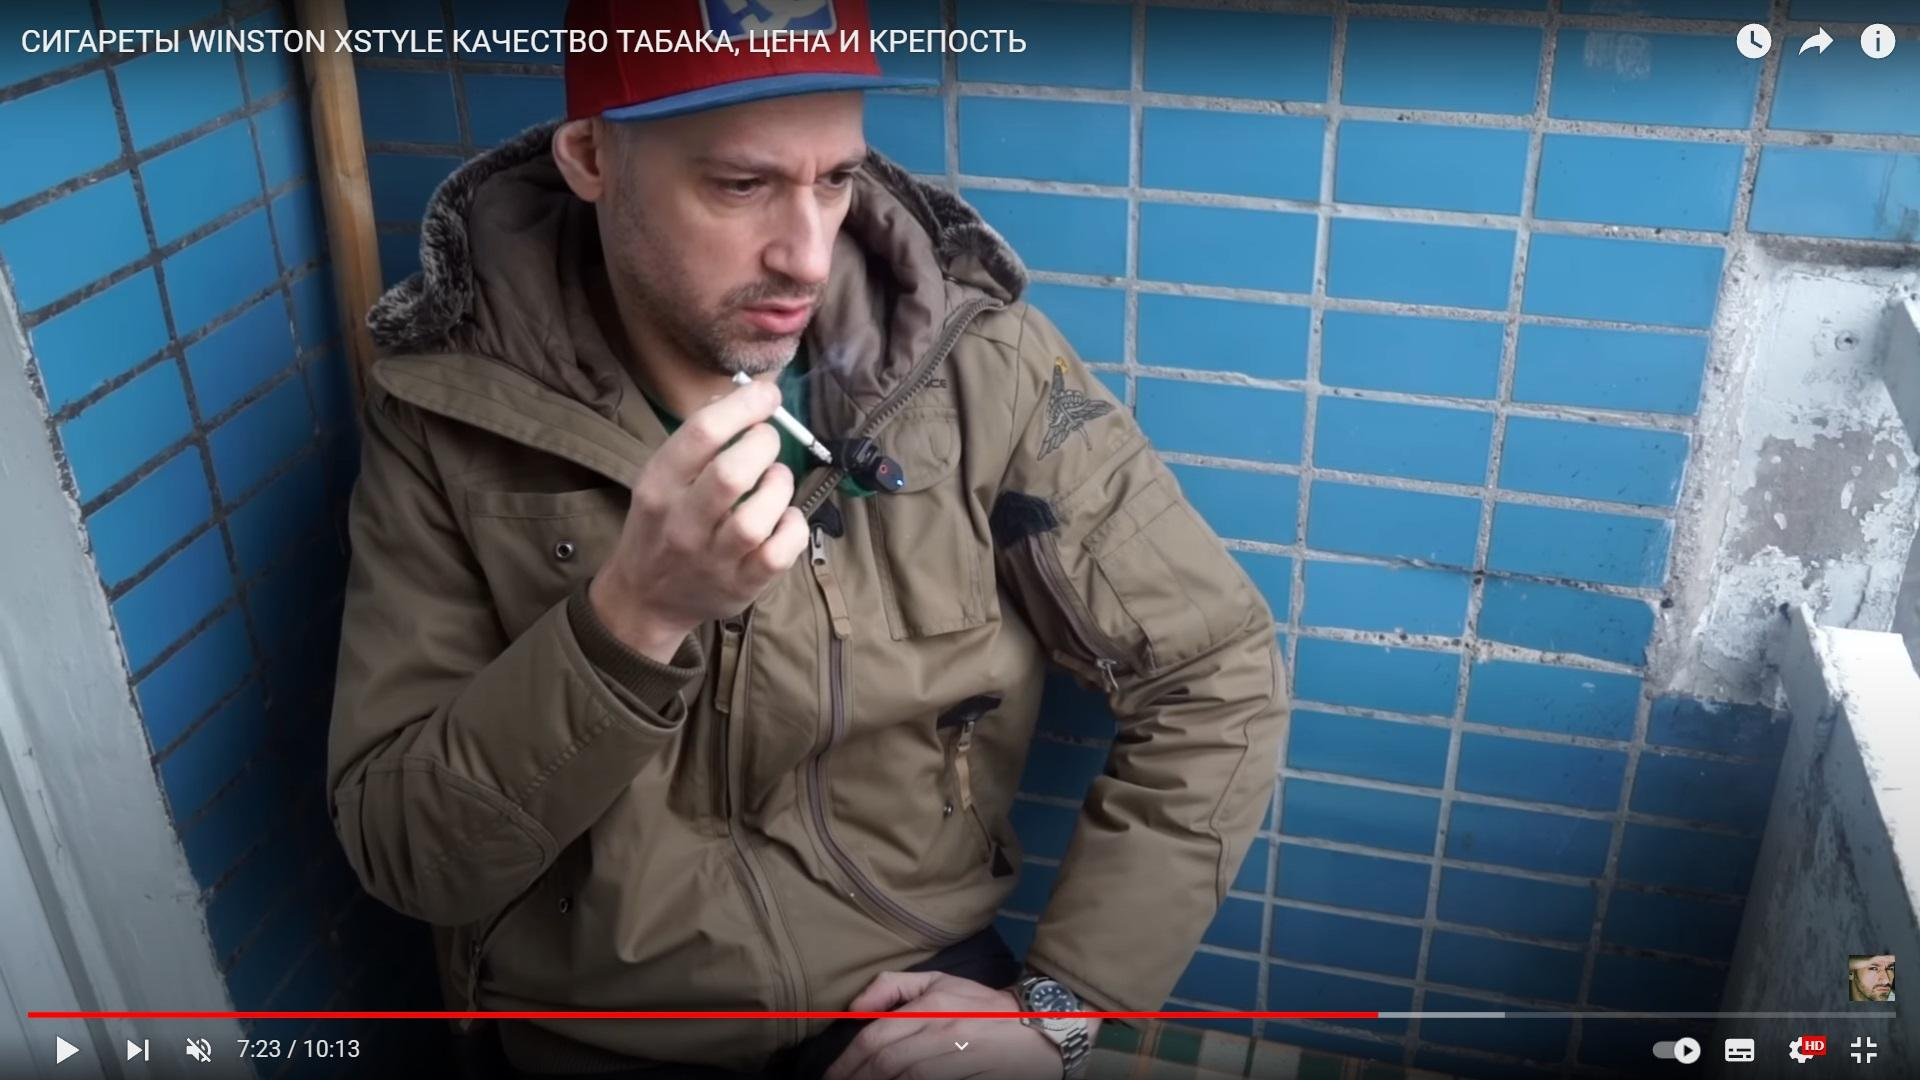cigarette: (732, 369, 832, 464)
